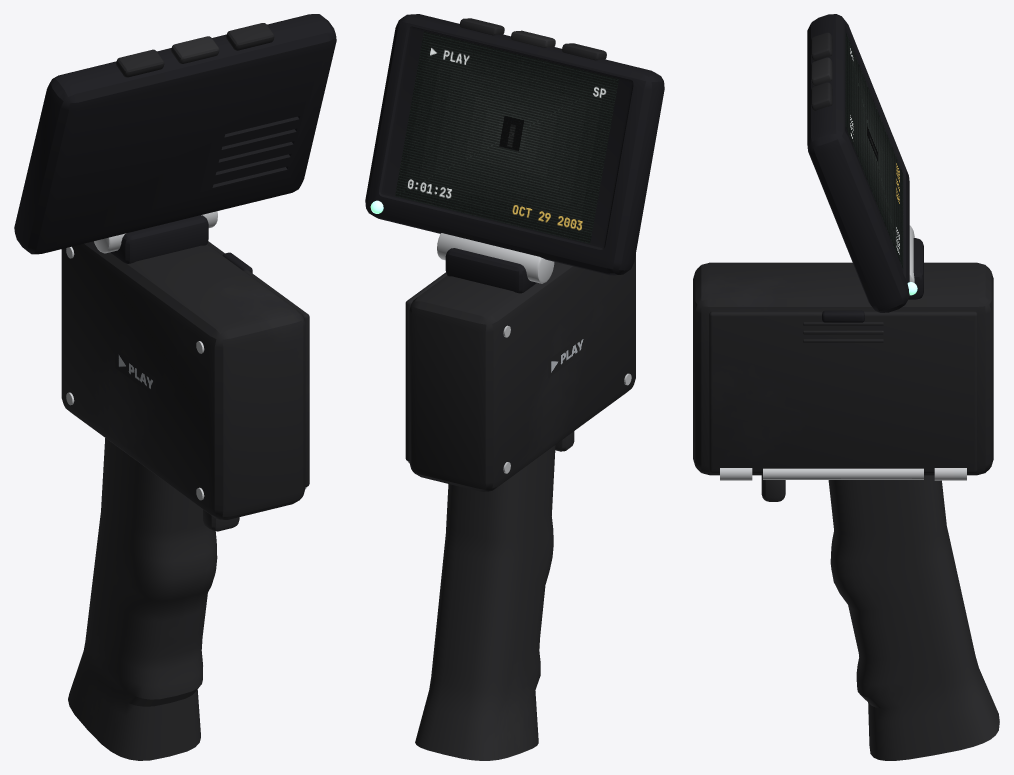
Rendered from TapePlayer.glb.
3 views of the same model, side by side, from view 1: azimuth 30°, elevation 25°; view 2: azimuth 150°, elevation 25°; view 3: azimuth 270°, elevation 25° (orthographic). The views are drawn at different scales.
Visible parts, largest first — view 1: Body, Handle, Door; view 2: Body, Screen, Handle, Door; view 3: Door, Body, Handle, Screen.
Part boxes in pixels (left/top/right/bottom): Body: left=14, top=14, right=336, bottom=531; Handle: left=68, top=438, right=217, bottom=760; Door: left=207, top=241, right=309, bottom=486; Body: left=365, top=14, right=664, bottom=491; Screen: left=395, top=31, right=618, bottom=243; Handle: left=415, top=445, right=555, bottom=760; Door: left=405, top=272, right=446, bottom=461; Door: left=709, top=310, right=977, bottom=479; Body: left=693, top=14, right=993, bottom=501; Handle: left=828, top=475, right=999, bottom=760; Screen: left=845, top=32, right=903, bottom=269.
Bounding box in the file's own units: 0.3266 × 0.8157 × 0.3333.
Materials: 5 (4 with a texture image).
